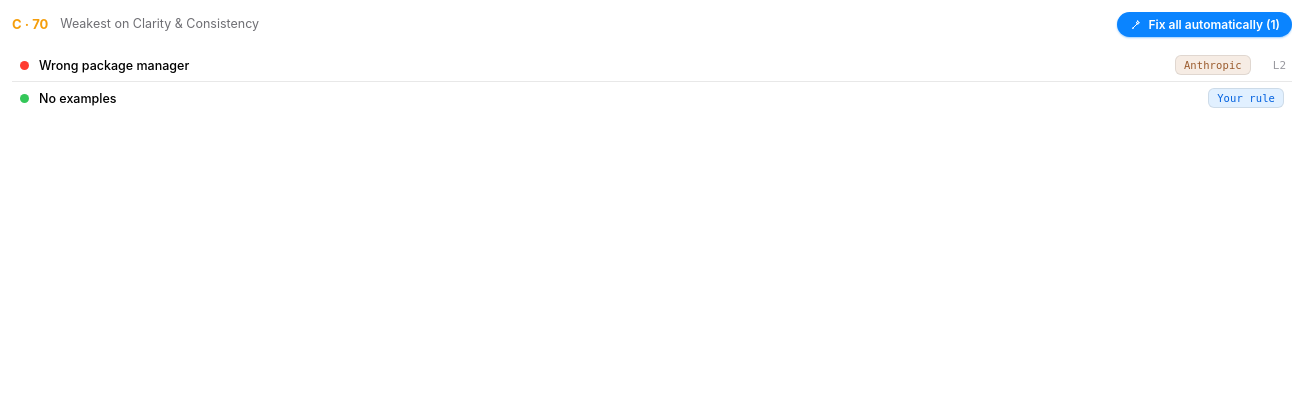
it: Findings › expands the clicked finding in place, with its why and fix, without leaving the tab
Click the button "Wrong package manager Anthropic" at (114, 65), box [12,49,1259,81]
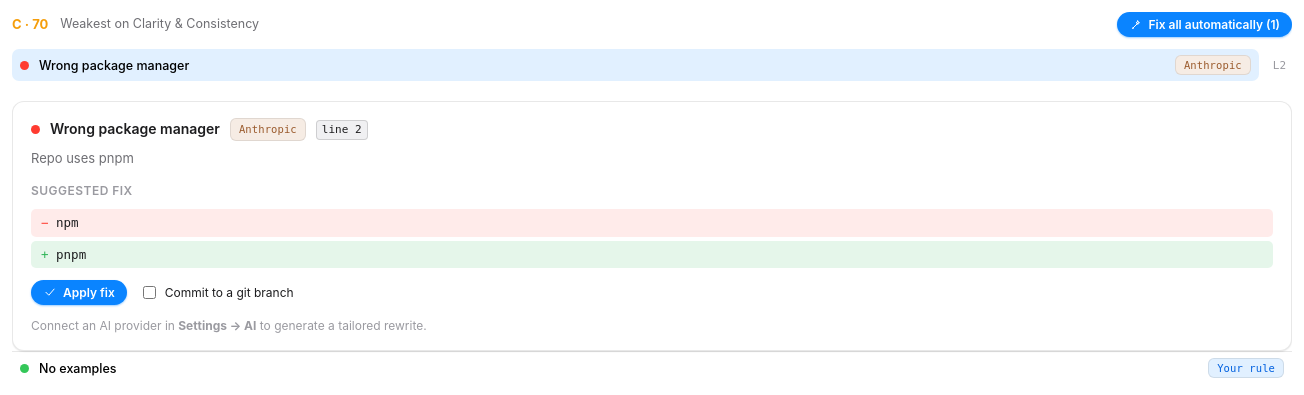
Expected: the button "Wrong package manager Anthropic" is expanded, [12,49,1259,81]
Expected: the text "Repo uses pnpm" is shown, [31,150,134,166]
Expected: the button "Apply fix" is shown, [31,280,127,305]
